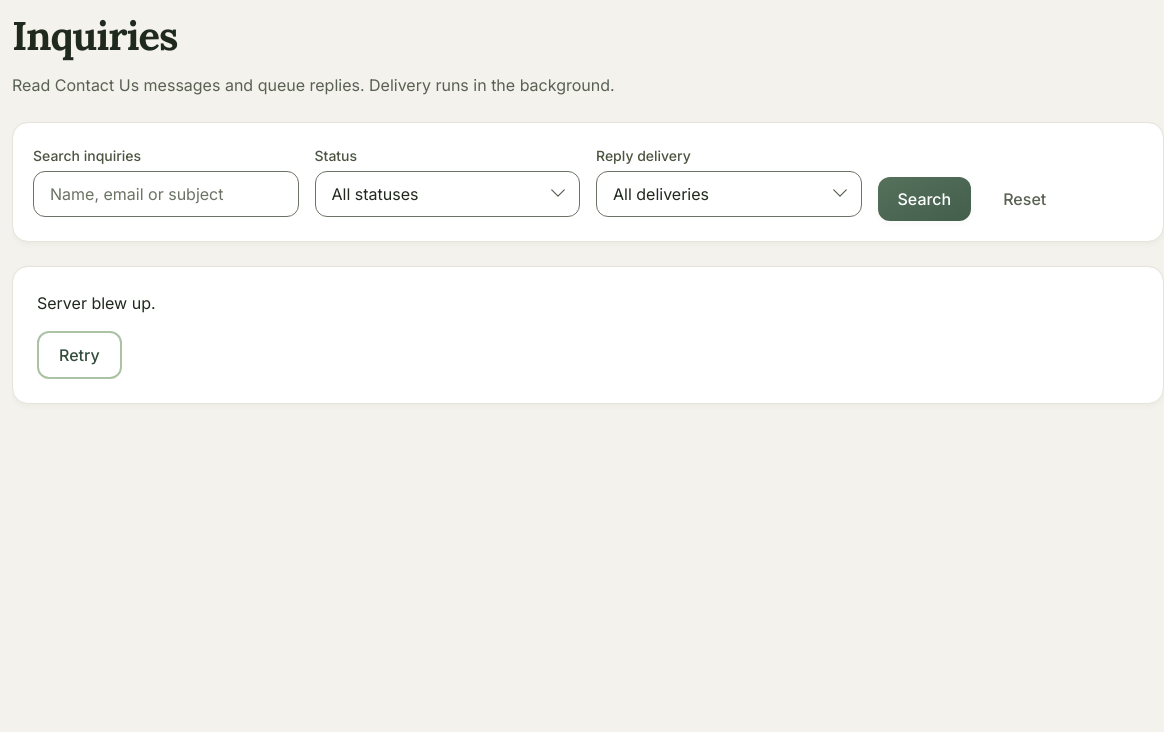
Test case: AdminInquiriesPage.vue › shows an error with retry and recovers to data
The image size is (1164, 732).
expect the message "Server blew up. Retry" is shown: met, box x1=12 y1=266 x2=1163 y2=404
Step 1. Click the button "Retry" → x=79, y=355, box x1=37 y1=331 x2=122 y2=379
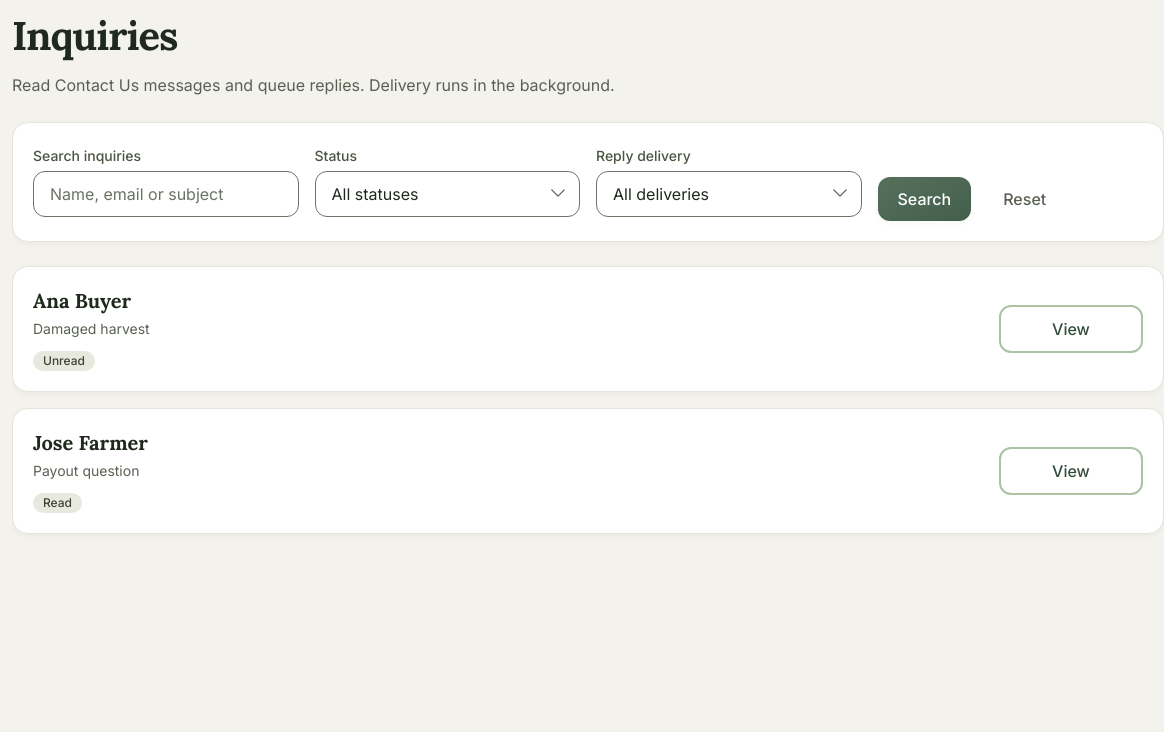
expect the text "Ana Buyer" is shown: met, box x1=33 y1=288 x2=131 y2=313
